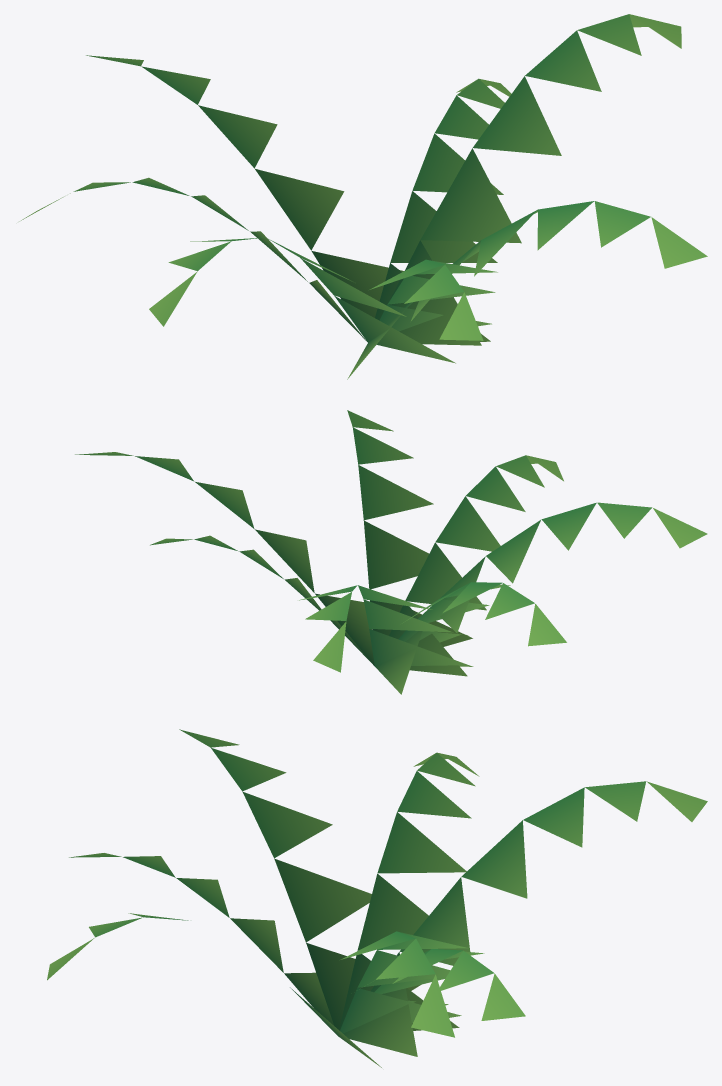
Rendered from dress_fern.glb.
3 renders of one model, top to bottom at view 1: azimuth 30°, elevation 25°; view 2: azimuth 150°, elevation 25°; view 3: azimuth 270°, elevation 25°, orthographic. The views are drawn at different scales.
Visible parts, largest first — view 1: fern; view 2: fern; view 3: fern.
Part boxes in pixels (x1=…): fern: x1=19, y1=14, x2=707, y2=379; fern: x1=75, y1=410, x2=707, y2=694; fern: x1=47, y1=729, x2=707, y2=1067.
Bounding box in the file's own units: 1.97 × 0.619 × 1.81.
